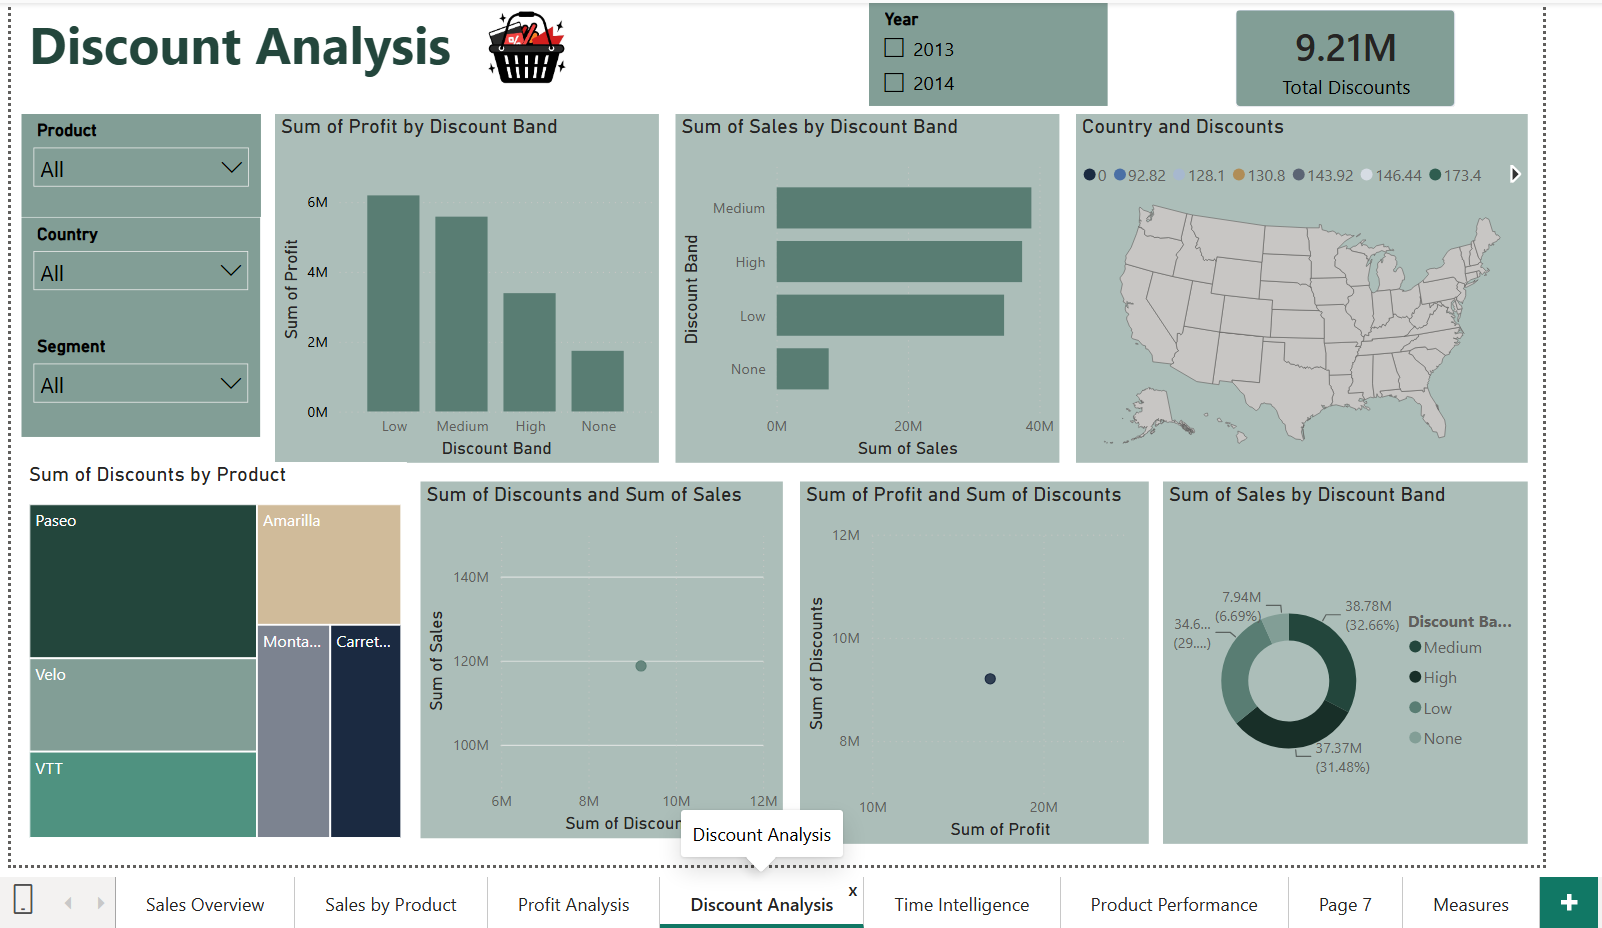

This screenshot's page, from the dashboard's own definition file:
{"tool":"powerbi","page":{"name":"Discount Analysis","canvas":[1280,720],"ordinal":3},"visuals":[{"type":"textbox","box":[9.6,0,421.2,86.5],"z":0},{"type":"clusteredColumnChart","fields":{"Category":["Sheet1.Discount Band"],"Y":["Sum(Sheet1.Profit)"]},"box":[220.2,92.3,320.6,291.5],"z":1000},{"type":"clusteredBarChart","fields":{"Category":["Sheet1.Discount Band"],"Y":["Sum(Sheet1.Sales)"]},"box":[555.4,92.3,320.6,291.5],"z":2000},{"type":"treemap","fields":{"Group":["Sheet1.Product"],"Values":["Sum(Sheet1.Discounts)"]},"box":[9.7,383.8,320.6,319],"z":3000},{"type":"shapeMap","fields":{"Category":["Sheet1.Country"],"Series":["Sheet1.Discounts"]},"box":[889,92.3,377.3,291.5],"z":4000},{"type":"scatterChart","fields":{"X":["Sum(Sheet1.Discounts)"],"Y":["Sum(Sheet1.Sales)"]},"box":[341.7,399.9,302.8,297.9],"z":5000},{"type":"scatterChart","fields":{"X":["Sum(Sheet1.Profit)"],"Y":["Sum(Sheet1.Discounts)"]},"box":[659,399.9,291.5,302.8],"z":6000},{"type":"donutChart","fields":{"Category":["Sheet1.Discount Band"],"Y":["Sum(Sheet1.Sales)"]},"box":[961.8,399.9,304.4,302.8],"z":7000},{"type":"image","box":[364.7,0,132.3,73.7],"z":8000},{"type":"cardVisual","fields":{"Data":["Sum(Sheet1.Discounts)"]},"box":[1016.9,0,194.3,92.3],"z":9000},{"type":"slicer","fields":{"Values":["Sheet1.Date.Variation.Date Hierarchy.Year"]},"box":[716.2,0,199.2,85.8],"z":10000},{"type":"slicer","fields":{"Values":["Sheet1.Country"]},"box":[9.1,178.7,199.2,93.9],"z":11000},{"type":"slicer","fields":{"Values":["Sheet1.Segment"]},"box":[9.1,272.6,199.2,89.1],"z":12000},{"type":"slicer","fields":{"Values":["Sheet1.Product"]},"box":[9.1,92.4,199.9,86.3],"z":13000}]}

Visuals, with their boxes on the page's 1280x720 design canvas (x1, y1, x2, y2). These are canvas units, not pixel positions in the 1602x928 screenshot, which may show the page scaled, cropped or inside an application window:
textbox: (10, 0, 431, 86)
clusteredColumnChart - Sheet1.Discount Band x Sum(Sheet1.Profit): (220, 92, 541, 384)
clusteredBarChart - Sheet1.Discount Band x Sum(Sheet1.Sales): (555, 92, 876, 384)
treemap - Sheet1.Product x Sum(Sheet1.Discounts): (10, 384, 330, 703)
shapeMap - Sheet1.Country x Sheet1.Discounts: (889, 92, 1266, 384)
scatterChart - Sum(Sheet1.Discounts) x Sum(Sheet1.Sales): (342, 400, 644, 698)
scatterChart - Sum(Sheet1.Profit) x Sum(Sheet1.Discounts): (659, 400, 950, 703)
donutChart - Sheet1.Discount Band x Sum(Sheet1.Sales): (962, 400, 1266, 703)
image: (365, 0, 497, 74)
cardVisual - Sum(Sheet1.Discounts): (1017, 0, 1211, 92)
slicer - Sheet1.Date.Variation.Date Hierarchy.Year: (716, 0, 915, 86)
slicer - Sheet1.Country: (9, 179, 208, 273)
slicer - Sheet1.Segment: (9, 273, 208, 362)
slicer - Sheet1.Product: (9, 92, 209, 179)
